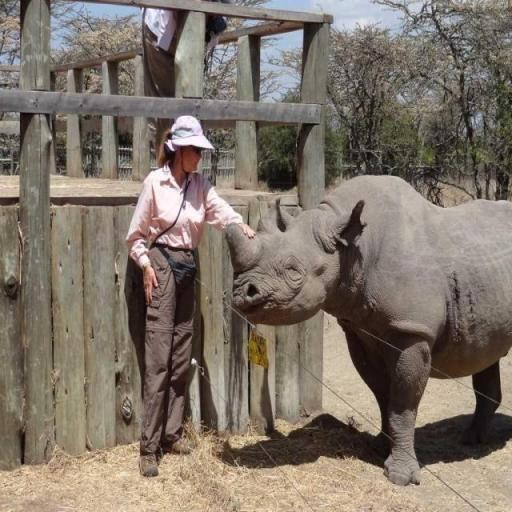Rhino: (224, 173, 512, 486)
